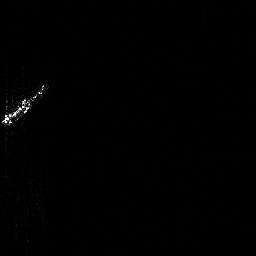ship: (1, 82, 49, 128)
